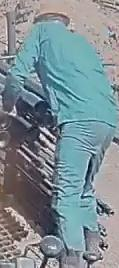helmet: (32, 0, 71, 24)
vest: (27, 24, 118, 151)
